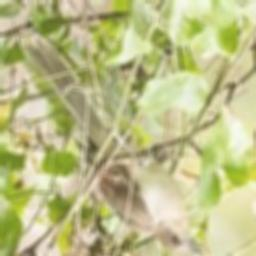Cuckoo: (23, 37, 202, 256)
